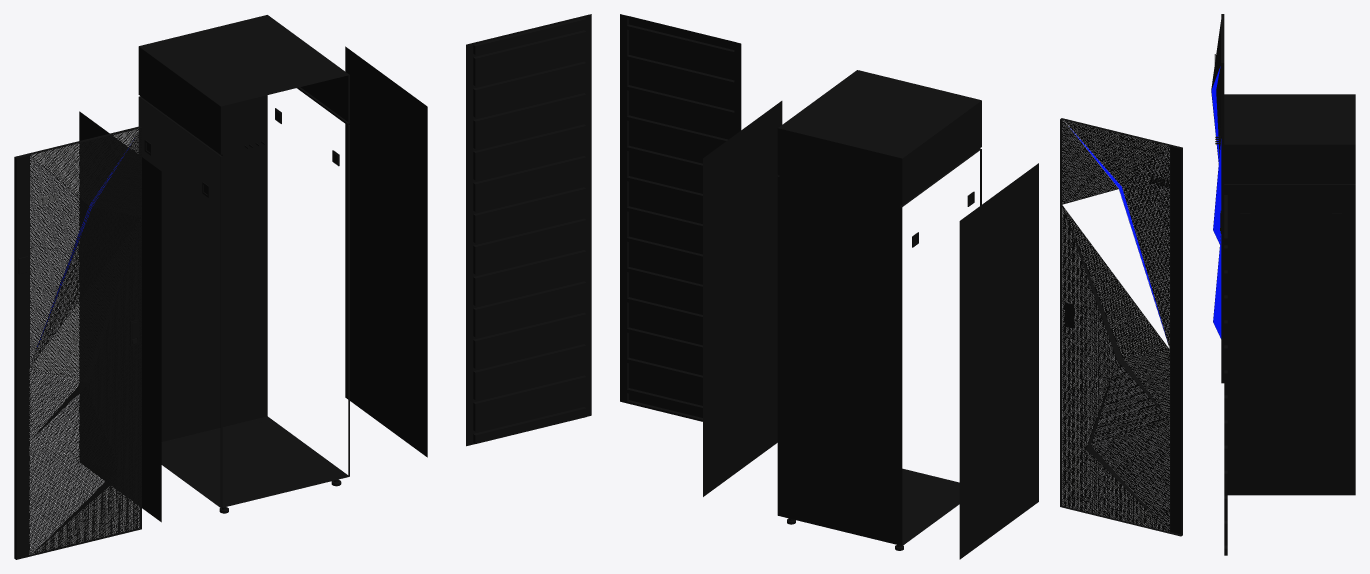
The picture shows the model from 3 angles, left to right: view 1: azimuth 30°, elevation 25°; view 2: azimuth 150°, elevation 25°; view 3: azimuth 270°, elevation 25°; orthographic projection. The views are drawn at different scales.
Visible parts, largest first — view 1: IBM780_Case, IBM780_Inner, IBM780_Door, IBM780_Side_Logo_Left, IBM780_Side_Logo_Right, IBM780_Door_Panel01, IBM780_DDoor_Edge; view 2: IBM780_Case, IBM780_Inner, IBM780_Door, IBM780_Side_Logo_Right, IBM780_Side_Logo_Left, IBM780_Door_Panel01, IBM780_DDoor_Edge; view 3: IBM780_Side_Logo_Left, IBM780_Case, IBM780_Side_Logo_Right, IBM780_DDoor_Edge, IBM780_Inner, IBM780_Door, IBM780_Door_Blue03, IBM780_Door_Blue02, IBM780_Door_Blue01.
Boxes of the visible parts, <box> form: IBM780_Case: <box>138,15,349,507</box>; IBM780_Inner: <box>466,14,591,446</box>; IBM780_Door: <box>29,128,141,556</box>; IBM780_Side_Logo_Left: <box>345,46,427,457</box>; IBM780_Side_Logo_Right: <box>79,111,161,522</box>; IBM780_Door_Panel01: <box>16,155,29,559</box>; IBM780_DDoor_Edge: <box>14,126,141,559</box>; IBM780_Case: <box>777,70,981,545</box>; IBM780_Inner: <box>620,14,741,421</box>; IBM780_Door: <box>1062,120,1169,531</box>; IBM780_Side_Logo_Right: <box>959,163,1038,559</box>; IBM780_Side_Logo_Left: <box>703,101,782,496</box>; IBM780_Door_Panel01: <box>1170,146,1181,534</box>; IBM780_DDoor_Edge: <box>1060,118,1182,536</box>; IBM780_Side_Logo_Left: <box>1227,215,1355,495</box>; IBM780_Case: <box>1224,94,1355,184</box>; IBM780_Side_Logo_Right: <box>1224,185,1355,214</box>; IBM780_DDoor_Edge: <box>1221,14,1224,383</box>; IBM780_Inner: <box>1224,195,1227,555</box>; IBM780_Door: <box>1211,22,1221,337</box>; IBM780_Door_Blue03: <box>1213,234,1221,338</box>; IBM780_Door_Blue02: <box>1213,139,1221,243</box>; IBM780_Door_Blue01: <box>1211,66,1220,162</box>.
Bounding box in the file's own units: 3.2 × 2.16 × 0.8668.
